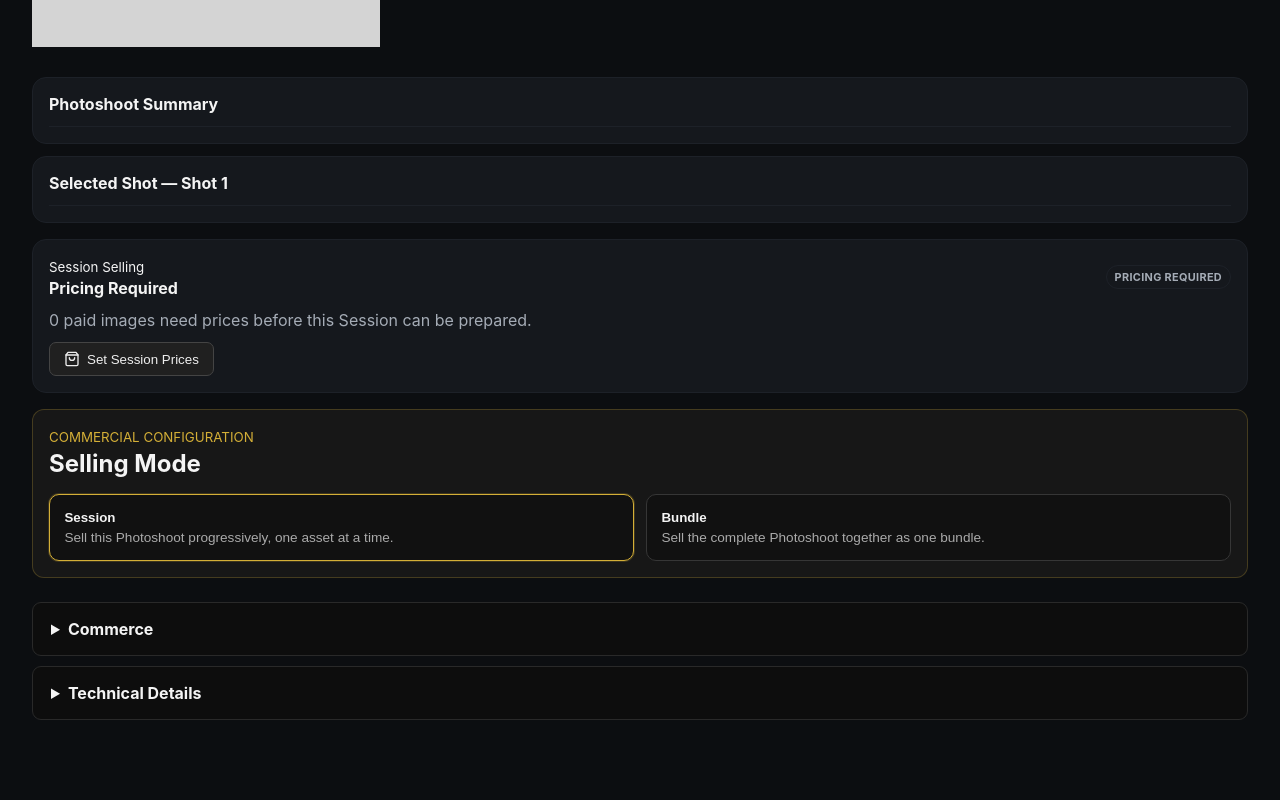
Photoshoot selling mode › persists Bundle, hides Session controls, and restores them when switched back
(page scrolled)
Expected: the button "Set Session Prices" is shown, [49, 342, 214, 376]
Step 1. Click the button "Bundle Sell the complete Photoshoot together as one bundle." → (938, 527), box [646, 494, 1231, 561]
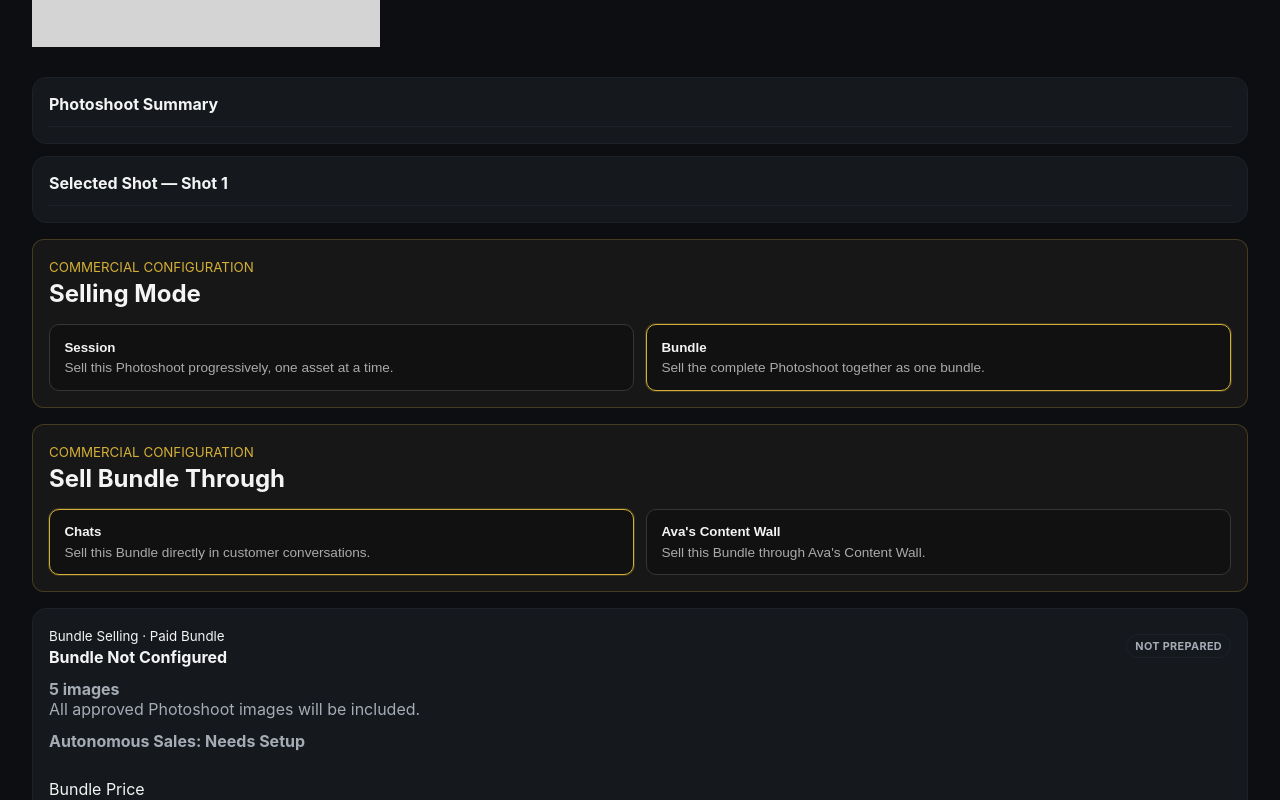
Now the heading "Bundle Not Configured" is shown, box [49, 647, 227, 667]
Now the text "5 images" is shown, box [49, 679, 120, 699]
Now the button "Set Session Prices" is gone
Step 2. Click the button "Sell this Photoshoot progressively" → (342, 357), box [49, 324, 634, 391]
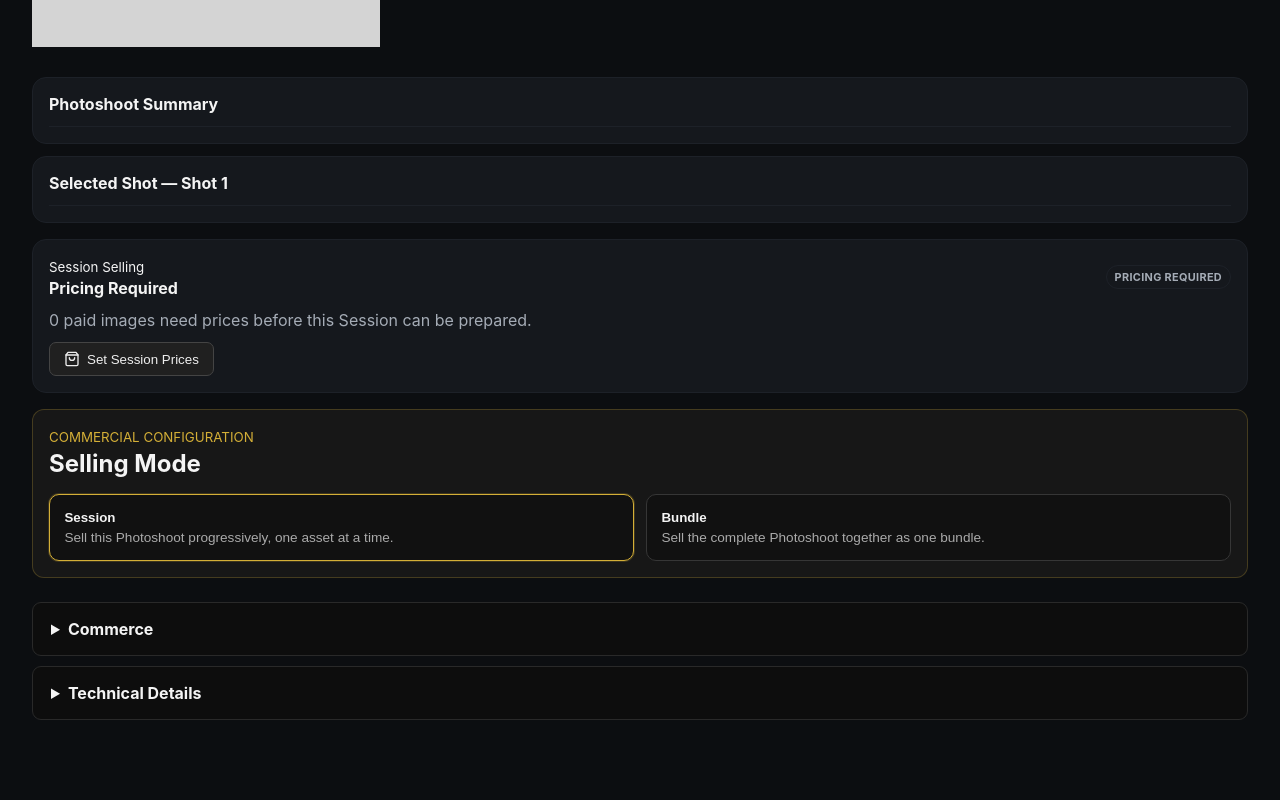
Now the button "Set Session Prices" is shown, box [49, 342, 214, 376]
